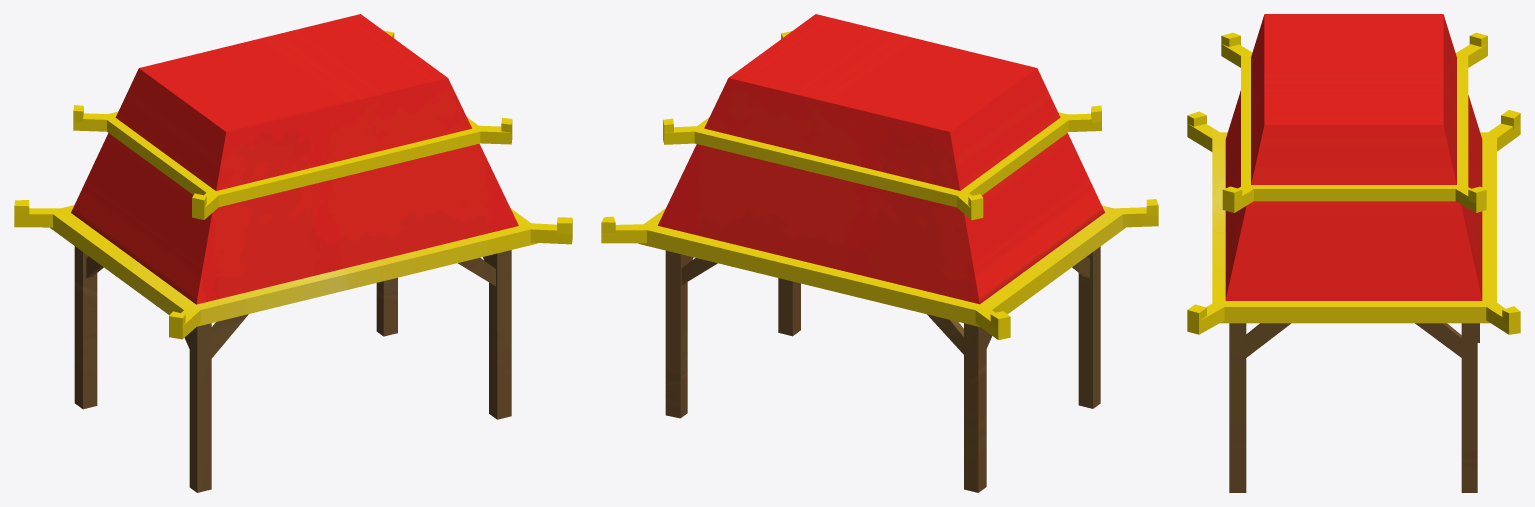
Rendered from Pagoda.glb.
The picture shows the model from 3 angles, left to right: view 1: azimuth 30°, elevation 25°; view 2: azimuth 150°, elevation 25°; view 3: azimuth 270°, elevation 25°; orthographic projection. The views are drawn at different scales.
Parts seen in each view (by area): view 1: Pagoda; view 2: Pagoda; view 3: Pagoda.
Part boxes in pixels (left/top/right/bottom): Pagoda: left=14, top=14, right=572, bottom=492; Pagoda: left=601, top=14, right=1158, bottom=492; Pagoda: left=1187, top=14, right=1520, bottom=492.
Bounding box in the file's own units: 366 × 289 × 253.
1 material, 1 textured.
